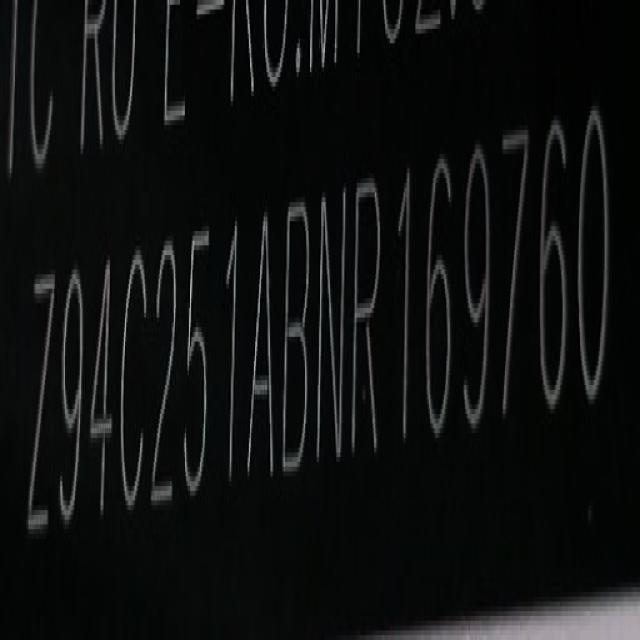0: (580, 96, 614, 416)
1: (398, 154, 416, 456), (224, 217, 243, 497)
2: (154, 239, 181, 517)
4: (91, 260, 117, 531)
5: (187, 218, 214, 516)
6: (539, 108, 573, 423), (426, 150, 456, 449)
7: (501, 113, 532, 434)
9: (463, 140, 493, 444), (59, 262, 86, 540)
A: (246, 205, 278, 486)
B: (284, 190, 316, 486)
C: (121, 241, 152, 523)
N: (318, 179, 348, 477)
R: (353, 170, 385, 467)
Z: (26, 269, 55, 558)
